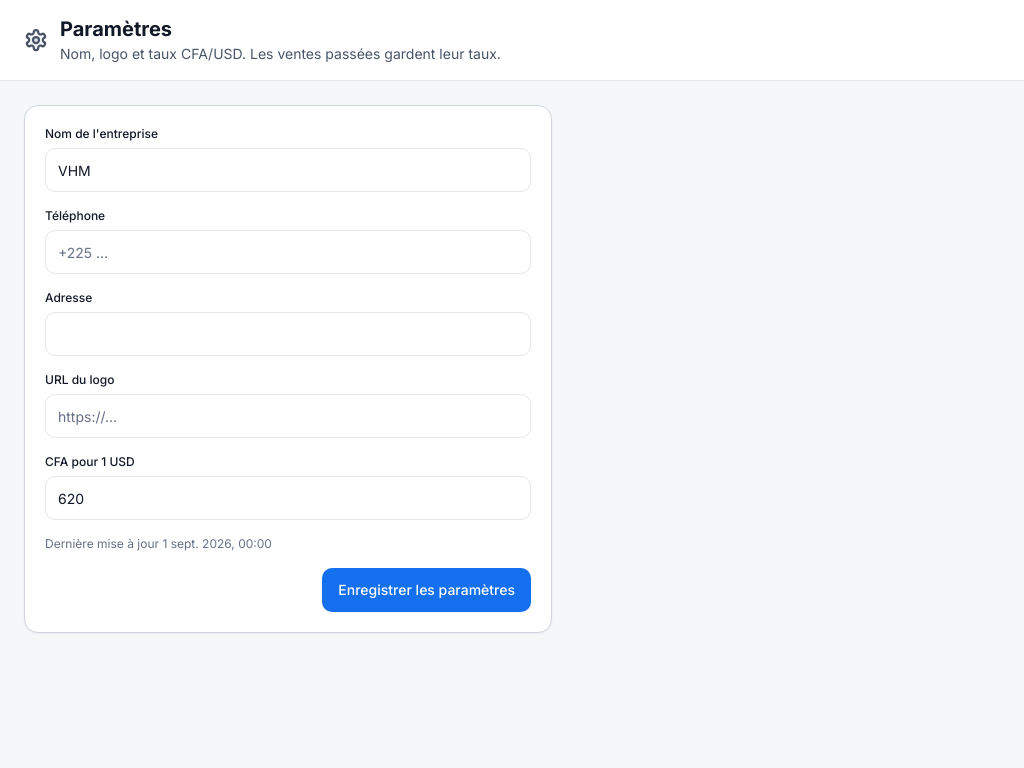
Test: Admin gates and copy › asks for confirmation when the exchange rate changes
Replace the text in the field with test id "settings-rate" with "700" at (288, 498), box x1=45 y1=476 x2=531 y2=520
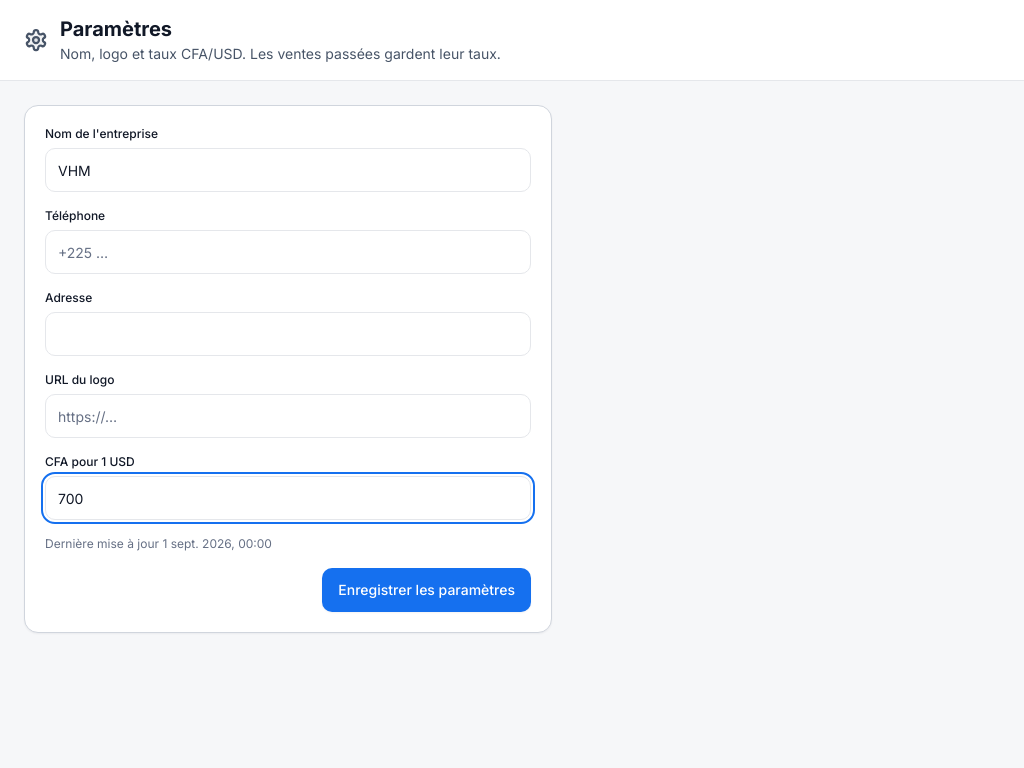
Click the button "Enregistrer les paramètres" at (427, 590), box x1=322 y1=568 x2=531 y2=612
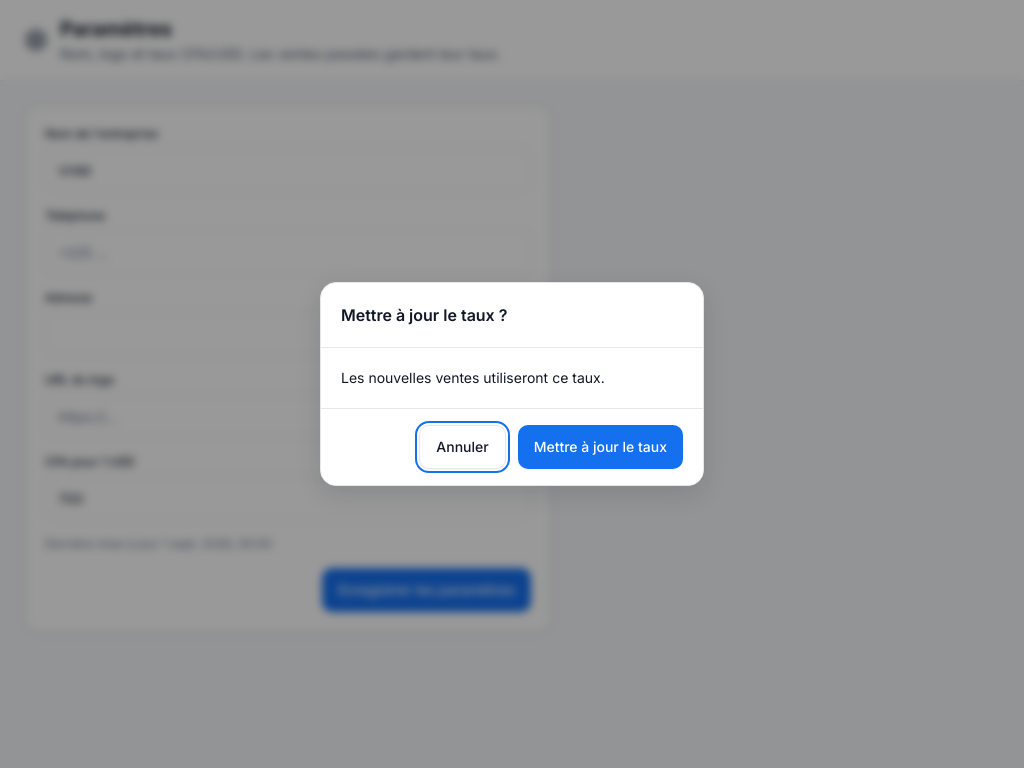
Now the heading "Mettre à jour le taux ?" is shown, box x1=341 y1=303 x2=508 y2=327
Now the text "Les nouvelles ventes utiliseront ce taux." is shown, box x1=341 y1=368 x2=605 y2=387
